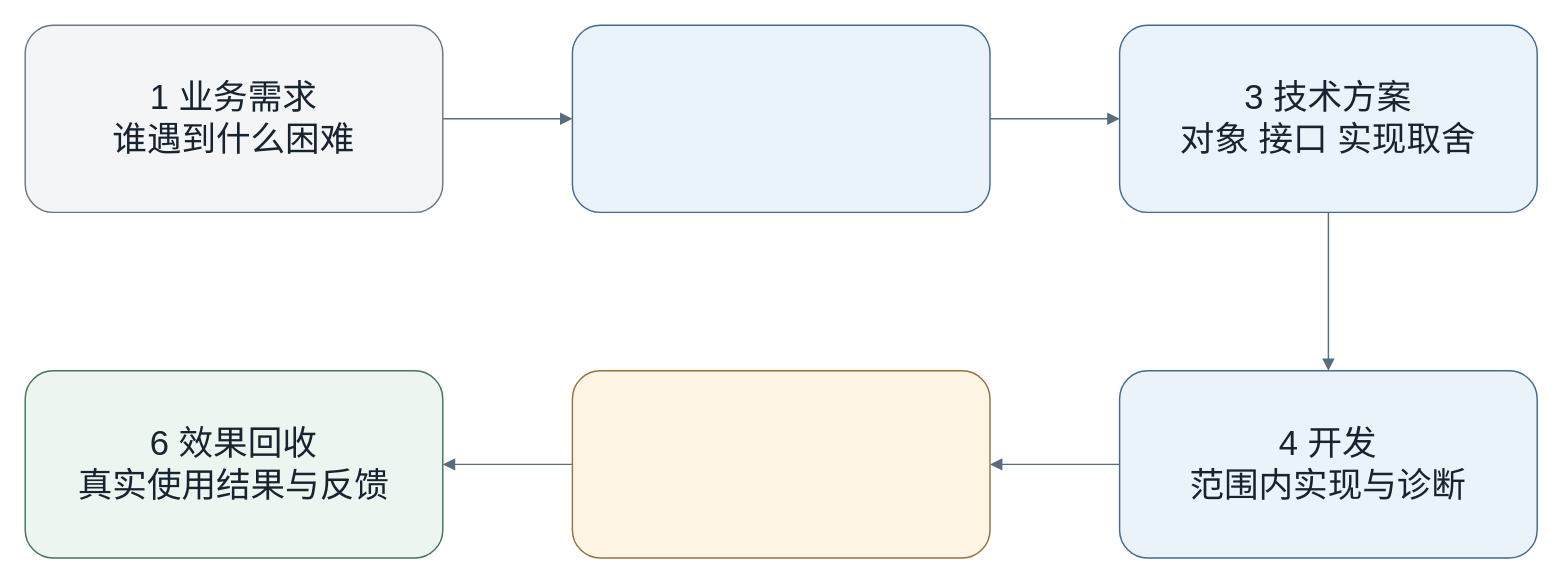
The diagram is 1562 pixels wide and 583 high, and some of its shapes have lost their labels. The shapes that lost their labels are listed below. From the top down, each one's centre as x and y in pixels, then its label:
the point at 780,118: 2 产品 PRD 需要哪些行为与价值
the point at 780,463: 5 验收 测试 试用 人的决定
